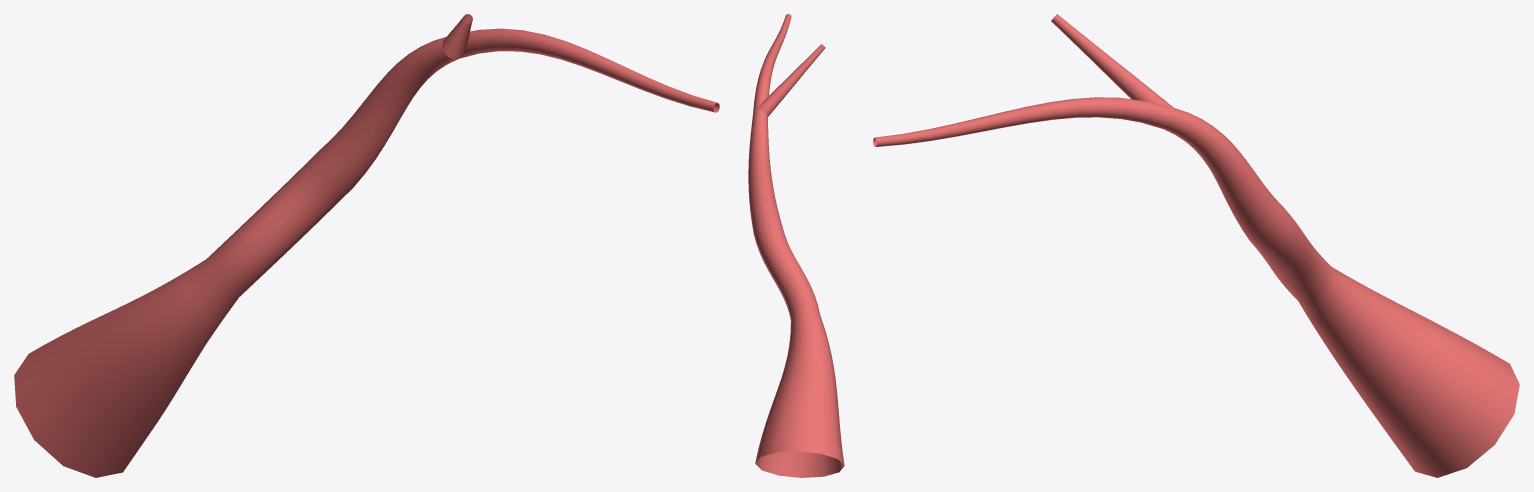
The model's file is Left_gastric_artery.glb.
3 renders of one model, left to right at view 1: azimuth 30°, elevation 25°; view 2: azimuth 150°, elevation 25°; view 3: azimuth 270°, elevation 25°, orthographic. The views are drawn at different scales.
Visible parts, largest first — view 1: Left_gastric_artery_BezierCurve.062; view 2: Left_gastric_artery_BezierCurve.062; view 3: Left_gastric_artery_BezierCurve.062.
Boxes of the visible parts, x1=… form: Left_gastric_artery_BezierCurve.062: x1=14, y1=14, x2=719, y2=477; Left_gastric_artery_BezierCurve.062: x1=748, y1=14, x2=844, y2=477; Left_gastric_artery_BezierCurve.062: x1=873, y1=14, x2=1519, y2=477.
Bounding box in the file's own units: 0.018 × 0.0244 × 0.027.
